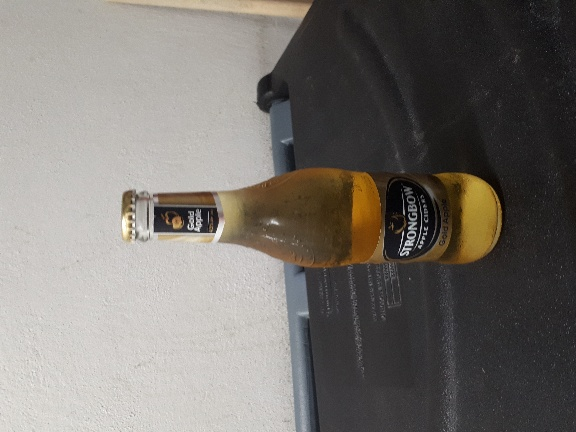SGB: (86, 123, 372, 195)
